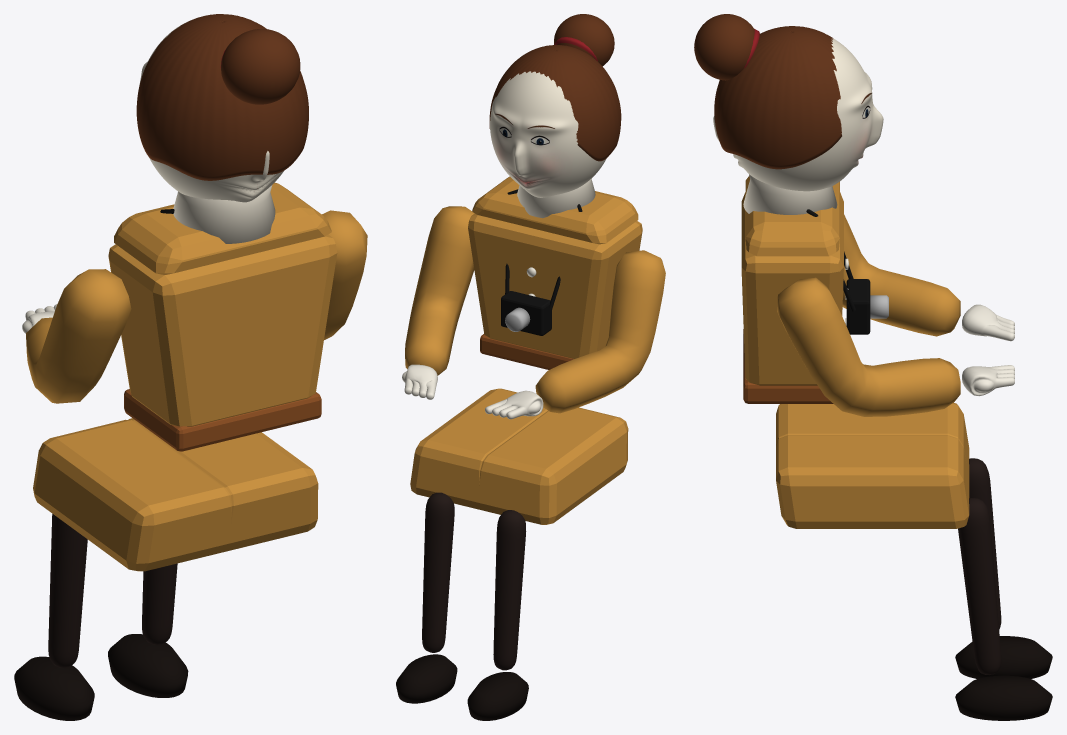
File: mascara_turista.glb
3 renders of one model, left to right at view 1: azimuth 30°, elevation 25°; view 2: azimuth 150°, elevation 25°; view 3: azimuth 270°, elevation 25°, orthographic. The views are drawn at different scales.
Parts seen in each view (by area): view 1: corpete, saia_coxa, cabelo, saia_coxa.001, manga, ombros, coque, canela, cinto, sapato, gola, sapato.001 (+3 smaller); view 2: corpete, saia_coxa, mascara, manga, manga.001, saia_coxa.001, cabelo, ombros, canela, canela.001, sapato.001, sapato (+7 smaller); view 3: saia_coxa.001, cabelo, manga.001, corpete, mascara, saia_coxa, manga, canela.001, ombros, sapato.001, coque, sapato (+6 smaller).
Boxes of the visible parts, x1=… form: corpete: x1=108, y1=234, x2=337, y2=426; saia_coxa: x1=33, y1=419, x2=232, y2=571; cabelo: x1=136, y1=14, x2=308, y2=180; saia_coxa.001: x1=128, y1=418, x2=318, y2=550; manga: x1=26, y1=269, x2=131, y2=403; ombros: x1=114, y1=182, x2=331, y2=274; coque: x1=221, y1=29, x2=300, y2=104; canela: x1=48, y1=514, x2=87, y2=667; cinto: x1=124, y1=389, x2=321, y2=451; sapato: x1=14, y1=656, x2=94, y2=720; gola: x1=173, y1=185, x2=275, y2=243; sapato.001: x1=108, y1=634, x2=188, y2=697; corpete: x1=468, y1=213, x2=642, y2=358; saia_coxa: x1=476, y1=407, x2=628, y2=524; mascara: x1=490, y1=71, x2=606, y2=197; manga: x1=535, y1=250, x2=665, y2=413; manga.001: x1=405, y1=206, x2=474, y2=375; saia_coxa.001: x1=410, y1=388, x2=547, y2=508; cabelo: x1=489, y1=45, x2=621, y2=161; ombros: x1=472, y1=176, x2=638, y2=244; canela: x1=493, y1=510, x2=526, y2=670; canela.001: x1=422, y1=492, x2=454, y2=652; sapato.001: x1=396, y1=654, x2=457, y2=703; sapato: x1=467, y1=672, x2=528, y2=720; saia_coxa.001: x1=776, y1=435, x2=969, y2=528; cabelo: x1=714, y1=26, x2=841, y2=169; manga.001: x1=777, y1=277, x2=960, y2=416; corpete: x1=741, y1=192, x2=843, y2=385; mascara: x1=713, y1=38, x2=883, y2=191; saia_coxa: x1=776, y1=402, x2=969, y2=480; manga: x1=842, y1=214, x2=960, y2=336; canela.001: x1=958, y1=498, x2=1001, y2=674; ombros: x1=745, y1=176, x2=839, y2=256; sapato.001: x1=955, y1=675, x2=1052, y2=720; coque: x1=694, y1=14, x2=758, y2=80; sapato: x1=955, y1=636, x2=1052, y2=678.
Bounding box in the file's own units: 0.6465 × 1.58 × 0.764.
16 materials, 1 textured.
